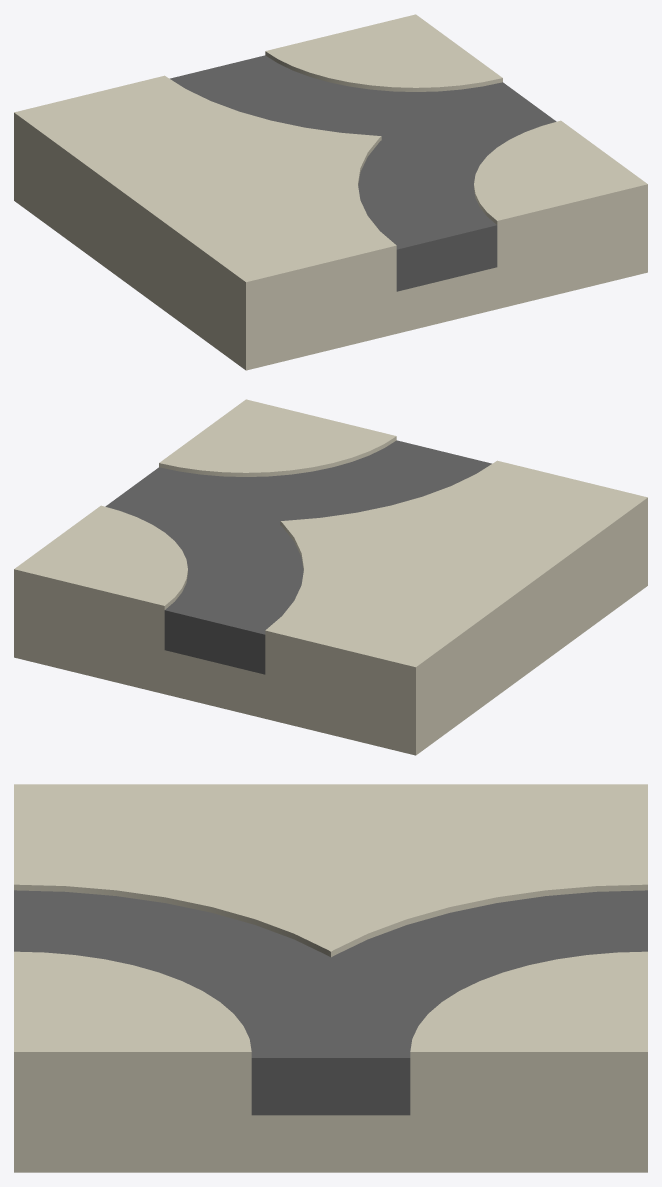
File: roadTile_287.obj
3 renders of one model, top to bottom at view 1: azimuth 30°, elevation 25°; view 2: azimuth 150°, elevation 25°; view 3: azimuth 270°, elevation 25°, orthographic. The views are drawn at different scales.
Parts seen in each view (by area): view 1: Mesh1_Group1_Model.286; view 2: Mesh1_Group1_Model.286; view 3: Mesh1_Group1_Model.286.
Part boxes in pixels (<box>): Mesh1_Group1_Model.286: <box>14,14,647,370</box>; Mesh1_Group1_Model.286: <box>14,399,647,755</box>; Mesh1_Group1_Model.286: <box>14,784,647,1172</box>.
Size of the model in its own units: 3 by 0.63 by 3.
